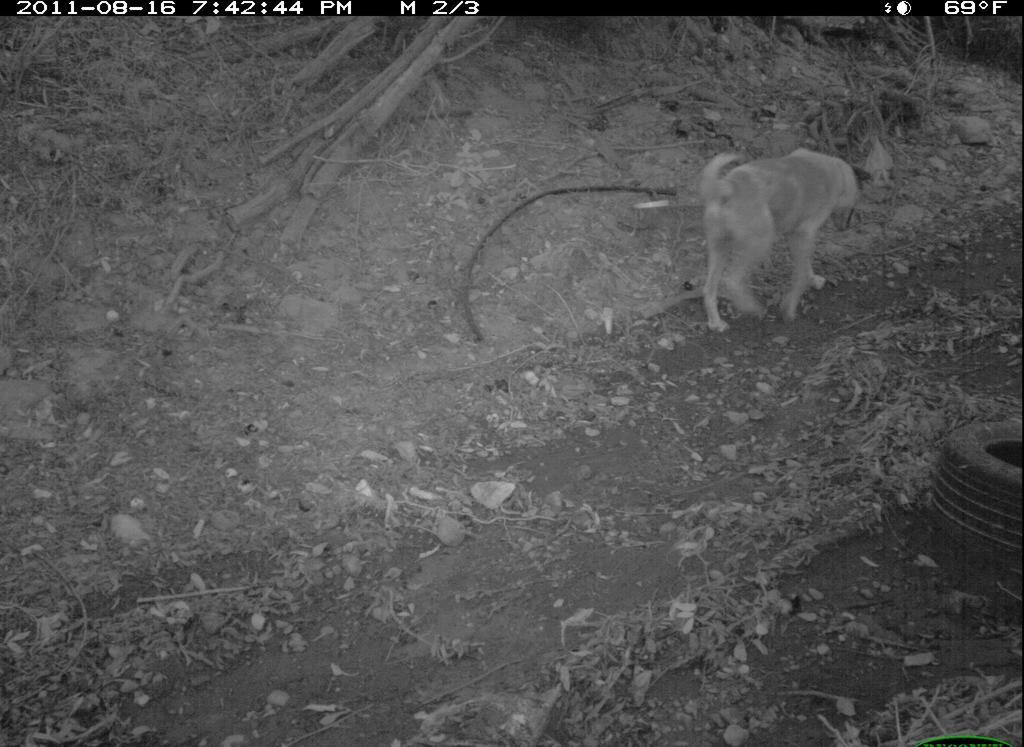dog: (697, 144, 876, 338)
